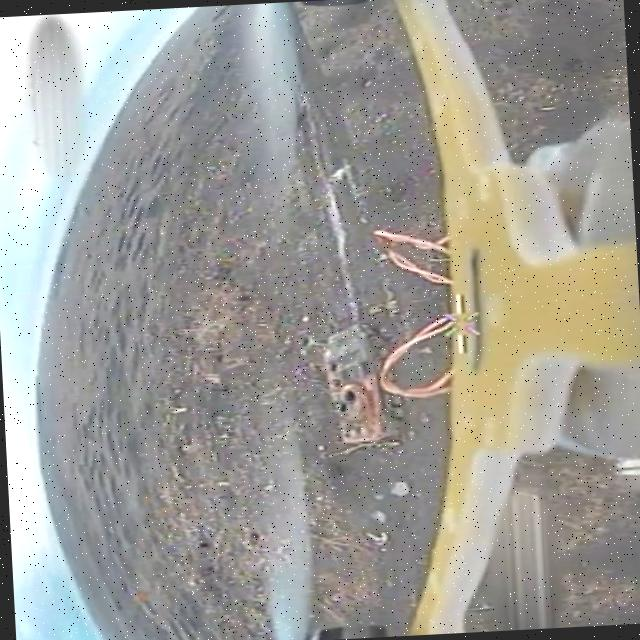Destroyed: (320, 322, 402, 452)
